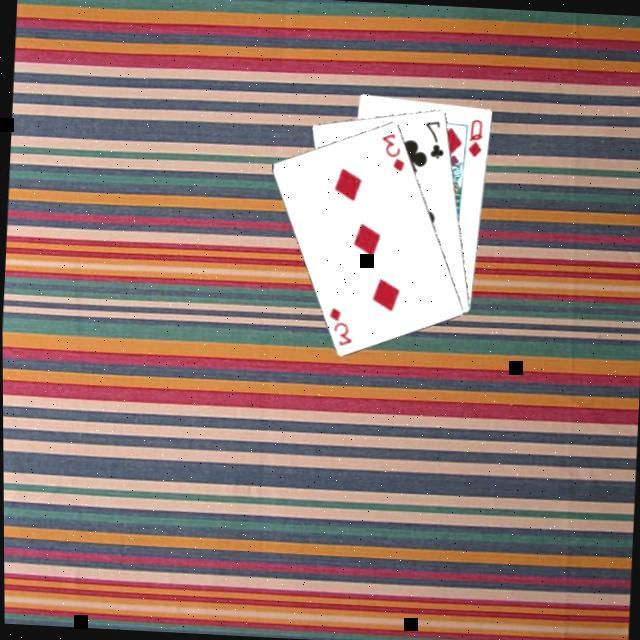3D: (375, 128, 407, 174), (322, 302, 354, 348)
7C: (418, 116, 446, 161)
QD: (463, 114, 485, 160)
